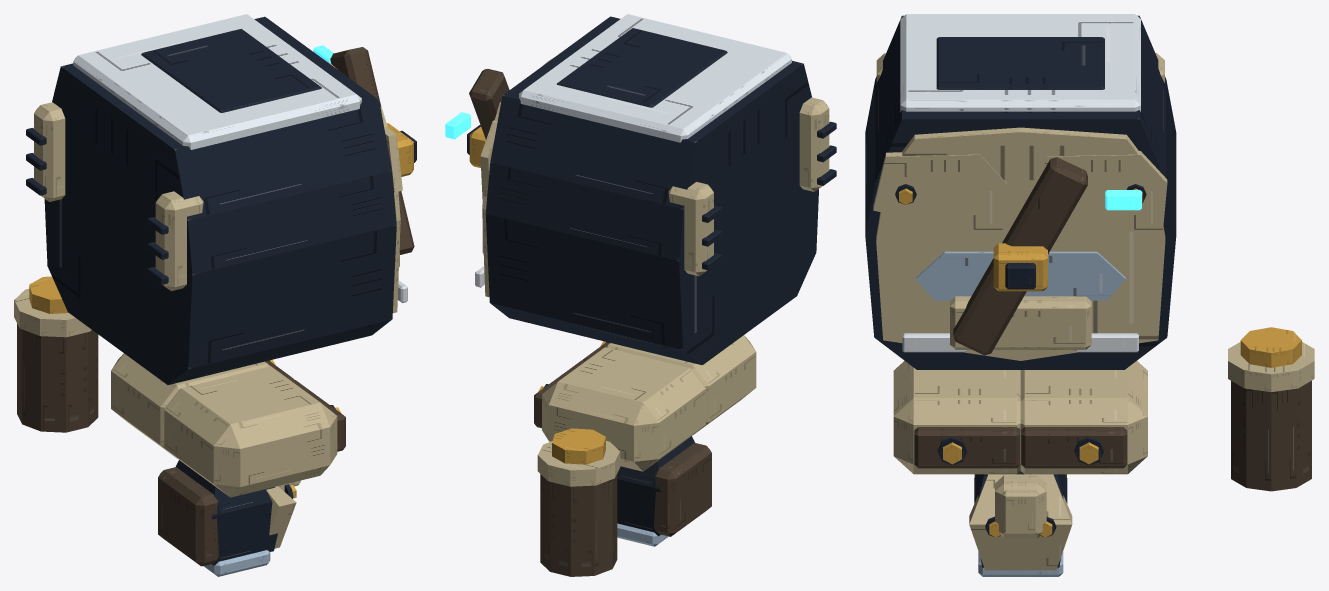
File: scout.glb
3 renders of one model, left to right at view 1: azimuth 30°, elevation 25°; view 2: azimuth 150°, elevation 25°; view 3: azimuth 270°, elevation 25°, orthographic. The views are drawn at different scales.
Parts seen in each view (by area): view 1: chest, arm_R, hips, forearm_L, arm_L; view 2: chest, arm_L, hips, forearm_L, arm_R; view 3: chest, arm_L, arm_R, hips, forearm_L.
Boxes of the visible parts, left/top/right/bottom form: chest: left=26, top=14, right=416, bottom=384; arm_R: left=164, top=366, right=345, bottom=497; hips: left=14, top=276, right=98, bottom=432; forearm_L: left=158, top=460, right=296, bottom=576; arm_L: left=111, top=353, right=300, bottom=491; chest: left=445, top=14, right=836, bottom=365; arm_L: left=534, top=347, right=705, bottom=471; hips: left=537, top=428, right=620, bottom=576; forearm_L: left=617, top=436, right=711, bottom=546; arm_R: left=582, top=335, right=756, bottom=434; chest: left=865, top=14, right=1176, bottom=369; arm_L: left=995, top=361, right=1147, bottom=538; arm_R: left=893, top=360, right=1020, bottom=474; hips: left=1228, top=327, right=1314, bottom=491; forearm_L: left=969, top=471, right=1072, bottom=576.
Size of the model in its own units: 0.385 by 0.564 by 0.4537.
8 materials, 8 textured.
